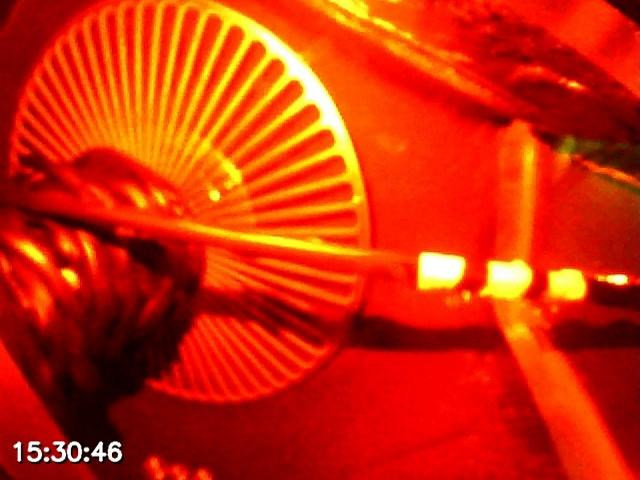white-dots: (415, 250, 588, 303)
